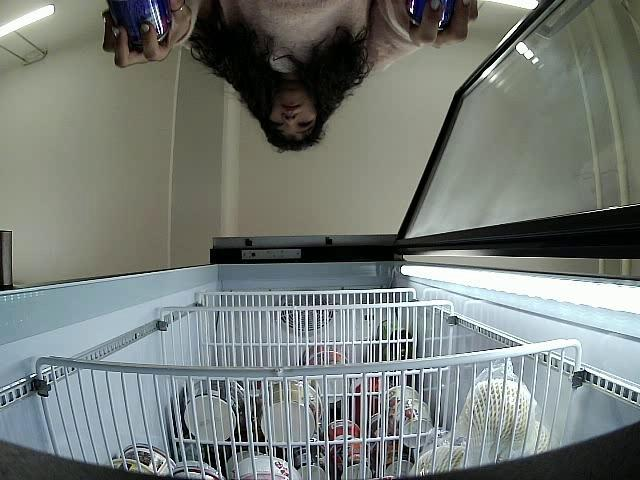14_welchsGrape: (108, 0, 171, 49), (408, 0, 455, 30)
